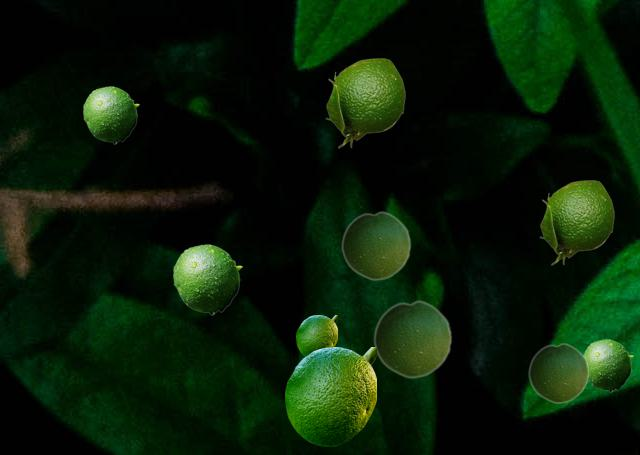dalandan: (285, 347, 375, 445), (325, 58, 404, 147), (539, 180, 613, 264), (373, 299, 451, 378), (341, 210, 410, 280), (173, 244, 241, 314), (528, 342, 588, 403), (83, 86, 138, 143), (583, 339, 632, 391), (296, 315, 336, 356)
